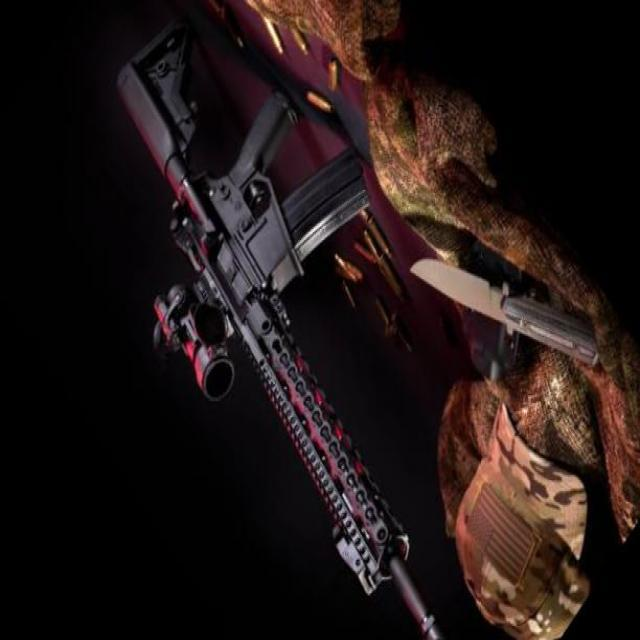weapon: (120, 17, 447, 640)
